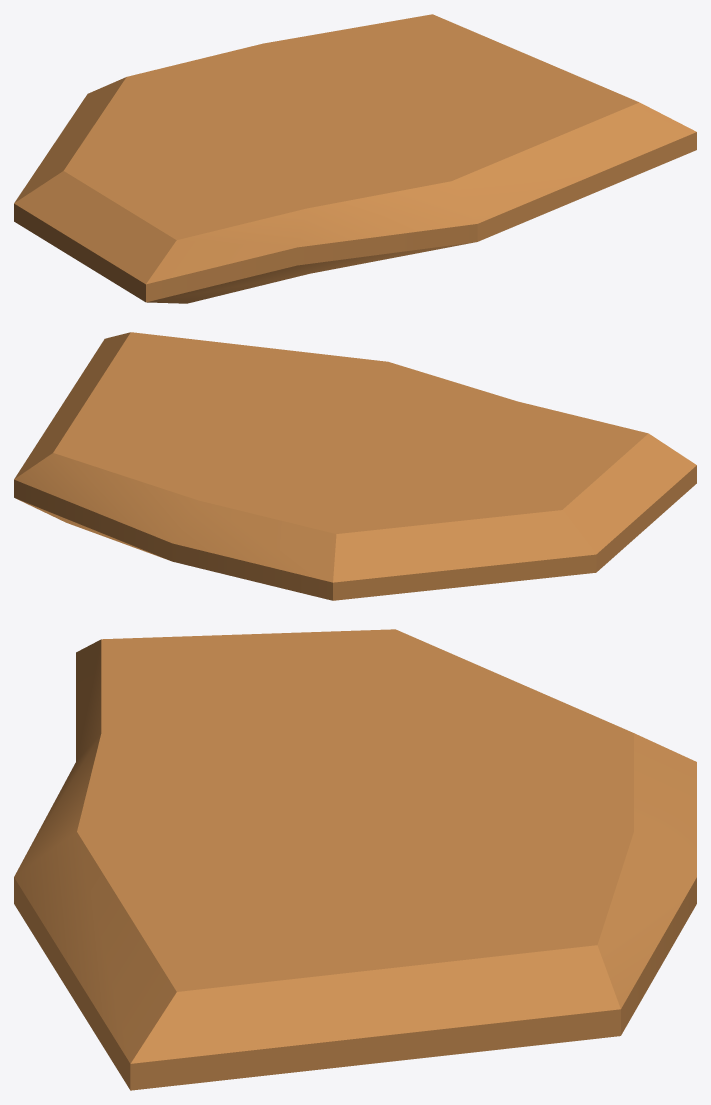
File: Rock_Medium_Dirt_04.fbx
3 renders of one model, top to bottom at view 1: azimuth 30°, elevation 25°; view 2: azimuth 150°, elevation 25°; view 3: azimuth 270°, elevation 25°, orthographic. The views are drawn at different scales.
Visible parts, largest first — view 1: Rock_Medium_Dirt_04; view 2: Rock_Medium_Dirt_04; view 3: Rock_Medium_Dirt_04.
Boxes of the visible parts, x1=… form: Rock_Medium_Dirt_04: x1=14, y1=14, x2=696, y2=303; Rock_Medium_Dirt_04: x1=14, y1=332, x2=696, y2=600; Rock_Medium_Dirt_04: x1=14, y1=629, x2=696, y2=1090.
Bounding box in the file's own units: 91.05 × 10.23 × 62.14.
